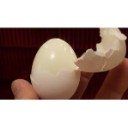begg: (37, 37, 75, 100)
